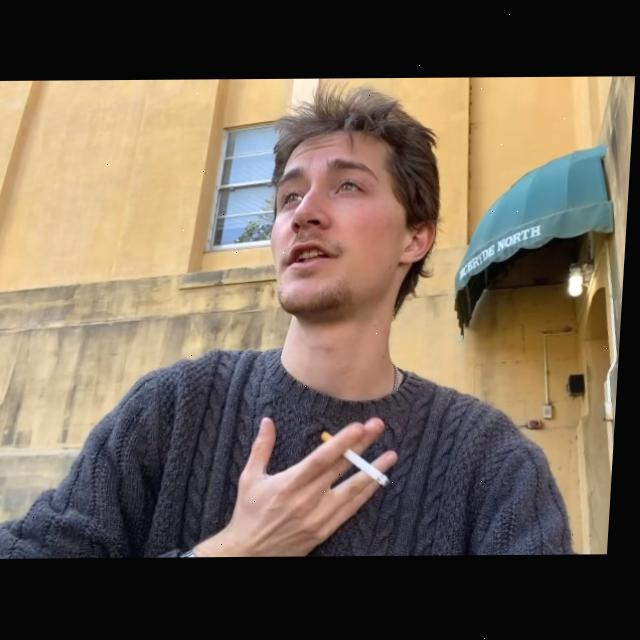cigarette: (324, 432, 399, 489)
